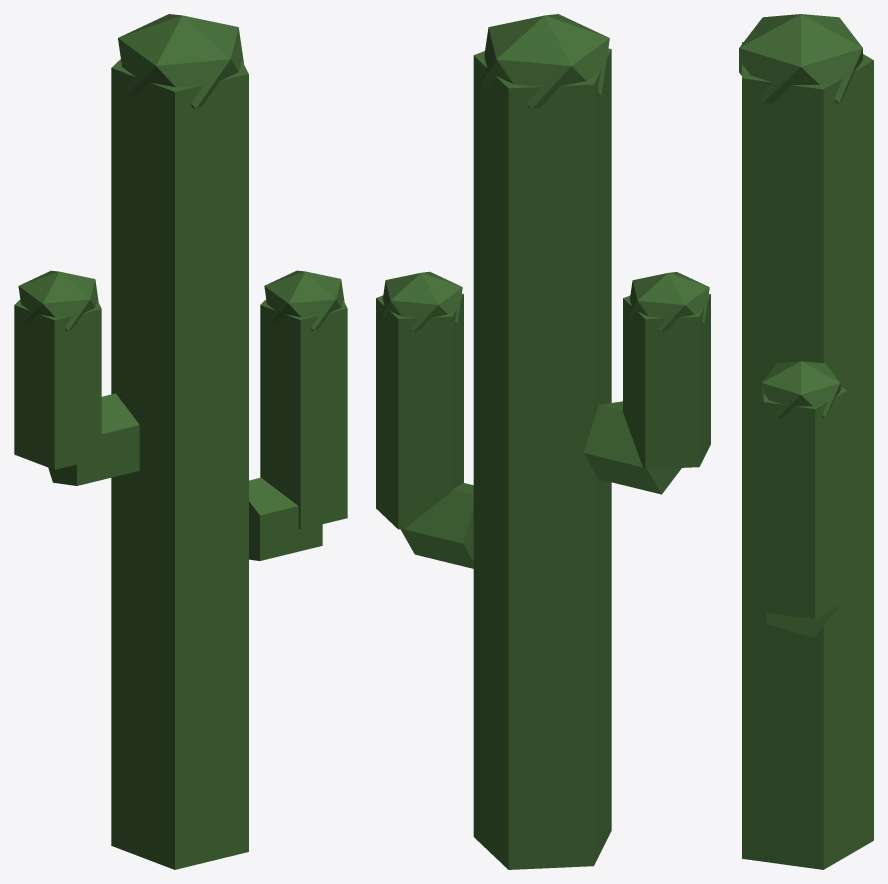
Rendered from bg_desert_cactus_1_lod1.glb.
The picture shows the model from 3 angles, left to right: view 1: azimuth 30°, elevation 25°; view 2: azimuth 150°, elevation 25°; view 3: azimuth 270°, elevation 25°; orthographic projection.
Visible parts, largest first — view 1: body; view 2: body; view 3: body.
Part boxes in pixels (x1=…): body: x1=14, y1=14, x2=347, y2=869; body: x1=376, y1=14, x2=710, y2=869; body: x1=739, y1=14, x2=873, y2=869.
Bounding box in the file's own units: 1.13 × 2.75 × 0.4071.
